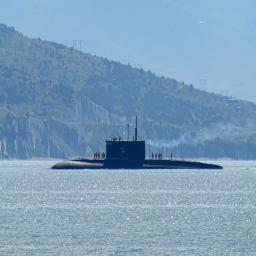submarine: (44, 112, 230, 169)
